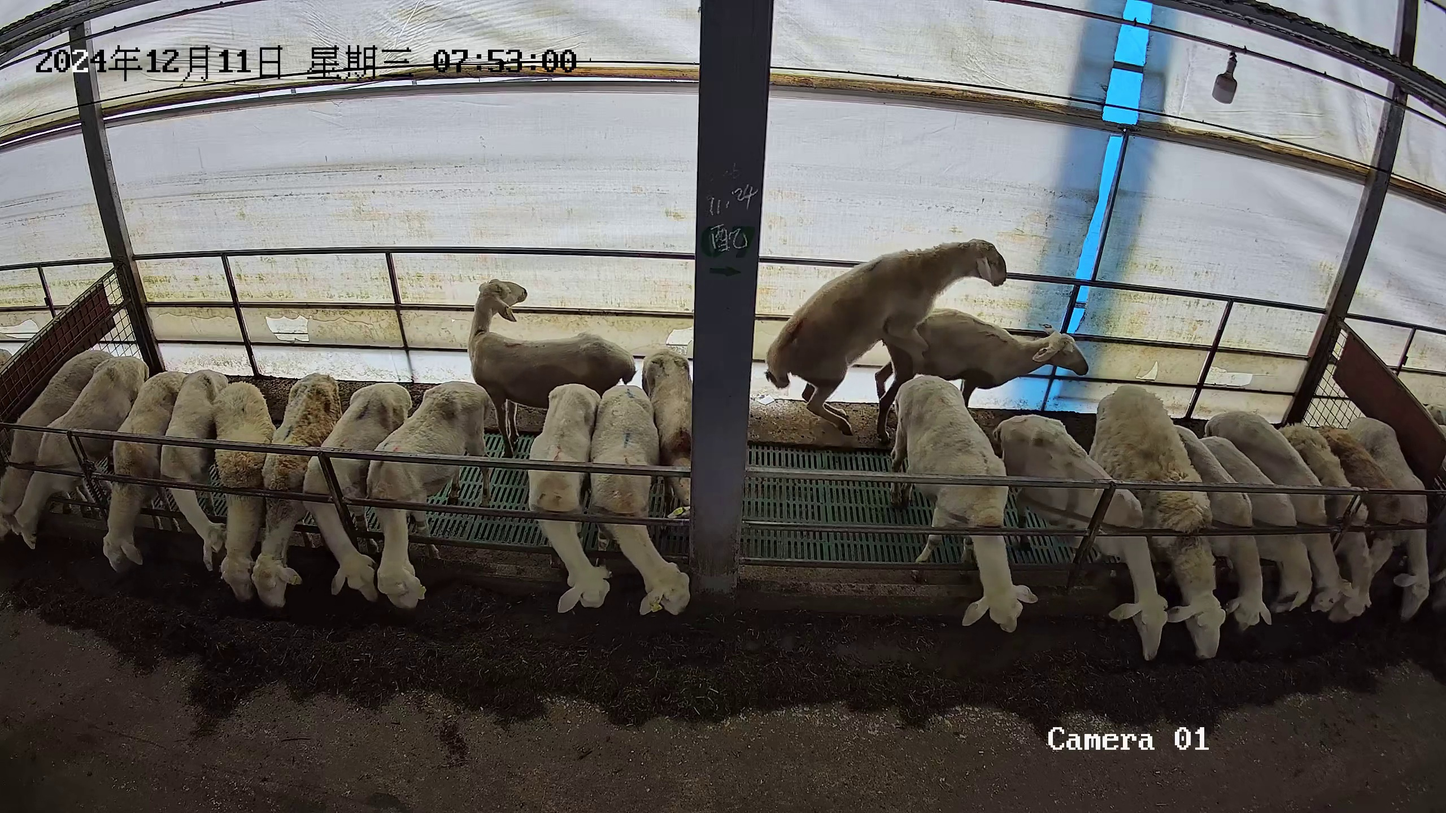Smounting: (763, 235, 1096, 445)
mounted: (873, 306, 1092, 442)
